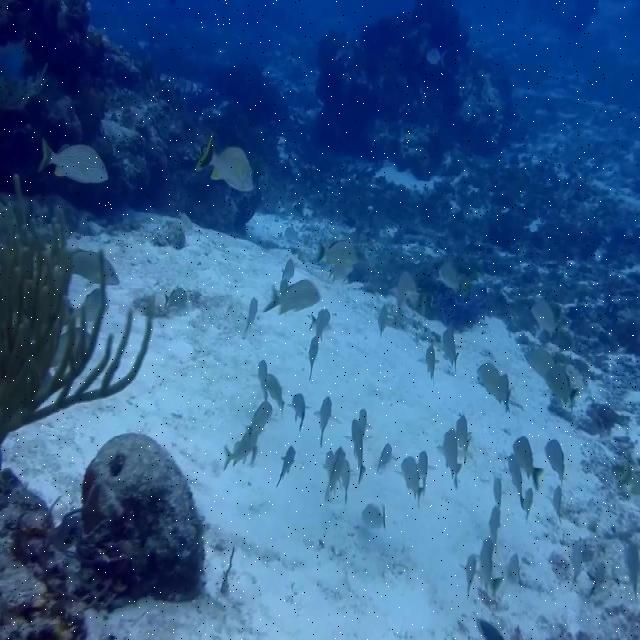aquatic plants: (0, 198, 146, 439)
fish: (197, 136, 253, 190), (34, 145, 108, 183)
sea-floor: (317, 2, 510, 173), (76, 434, 204, 603)
